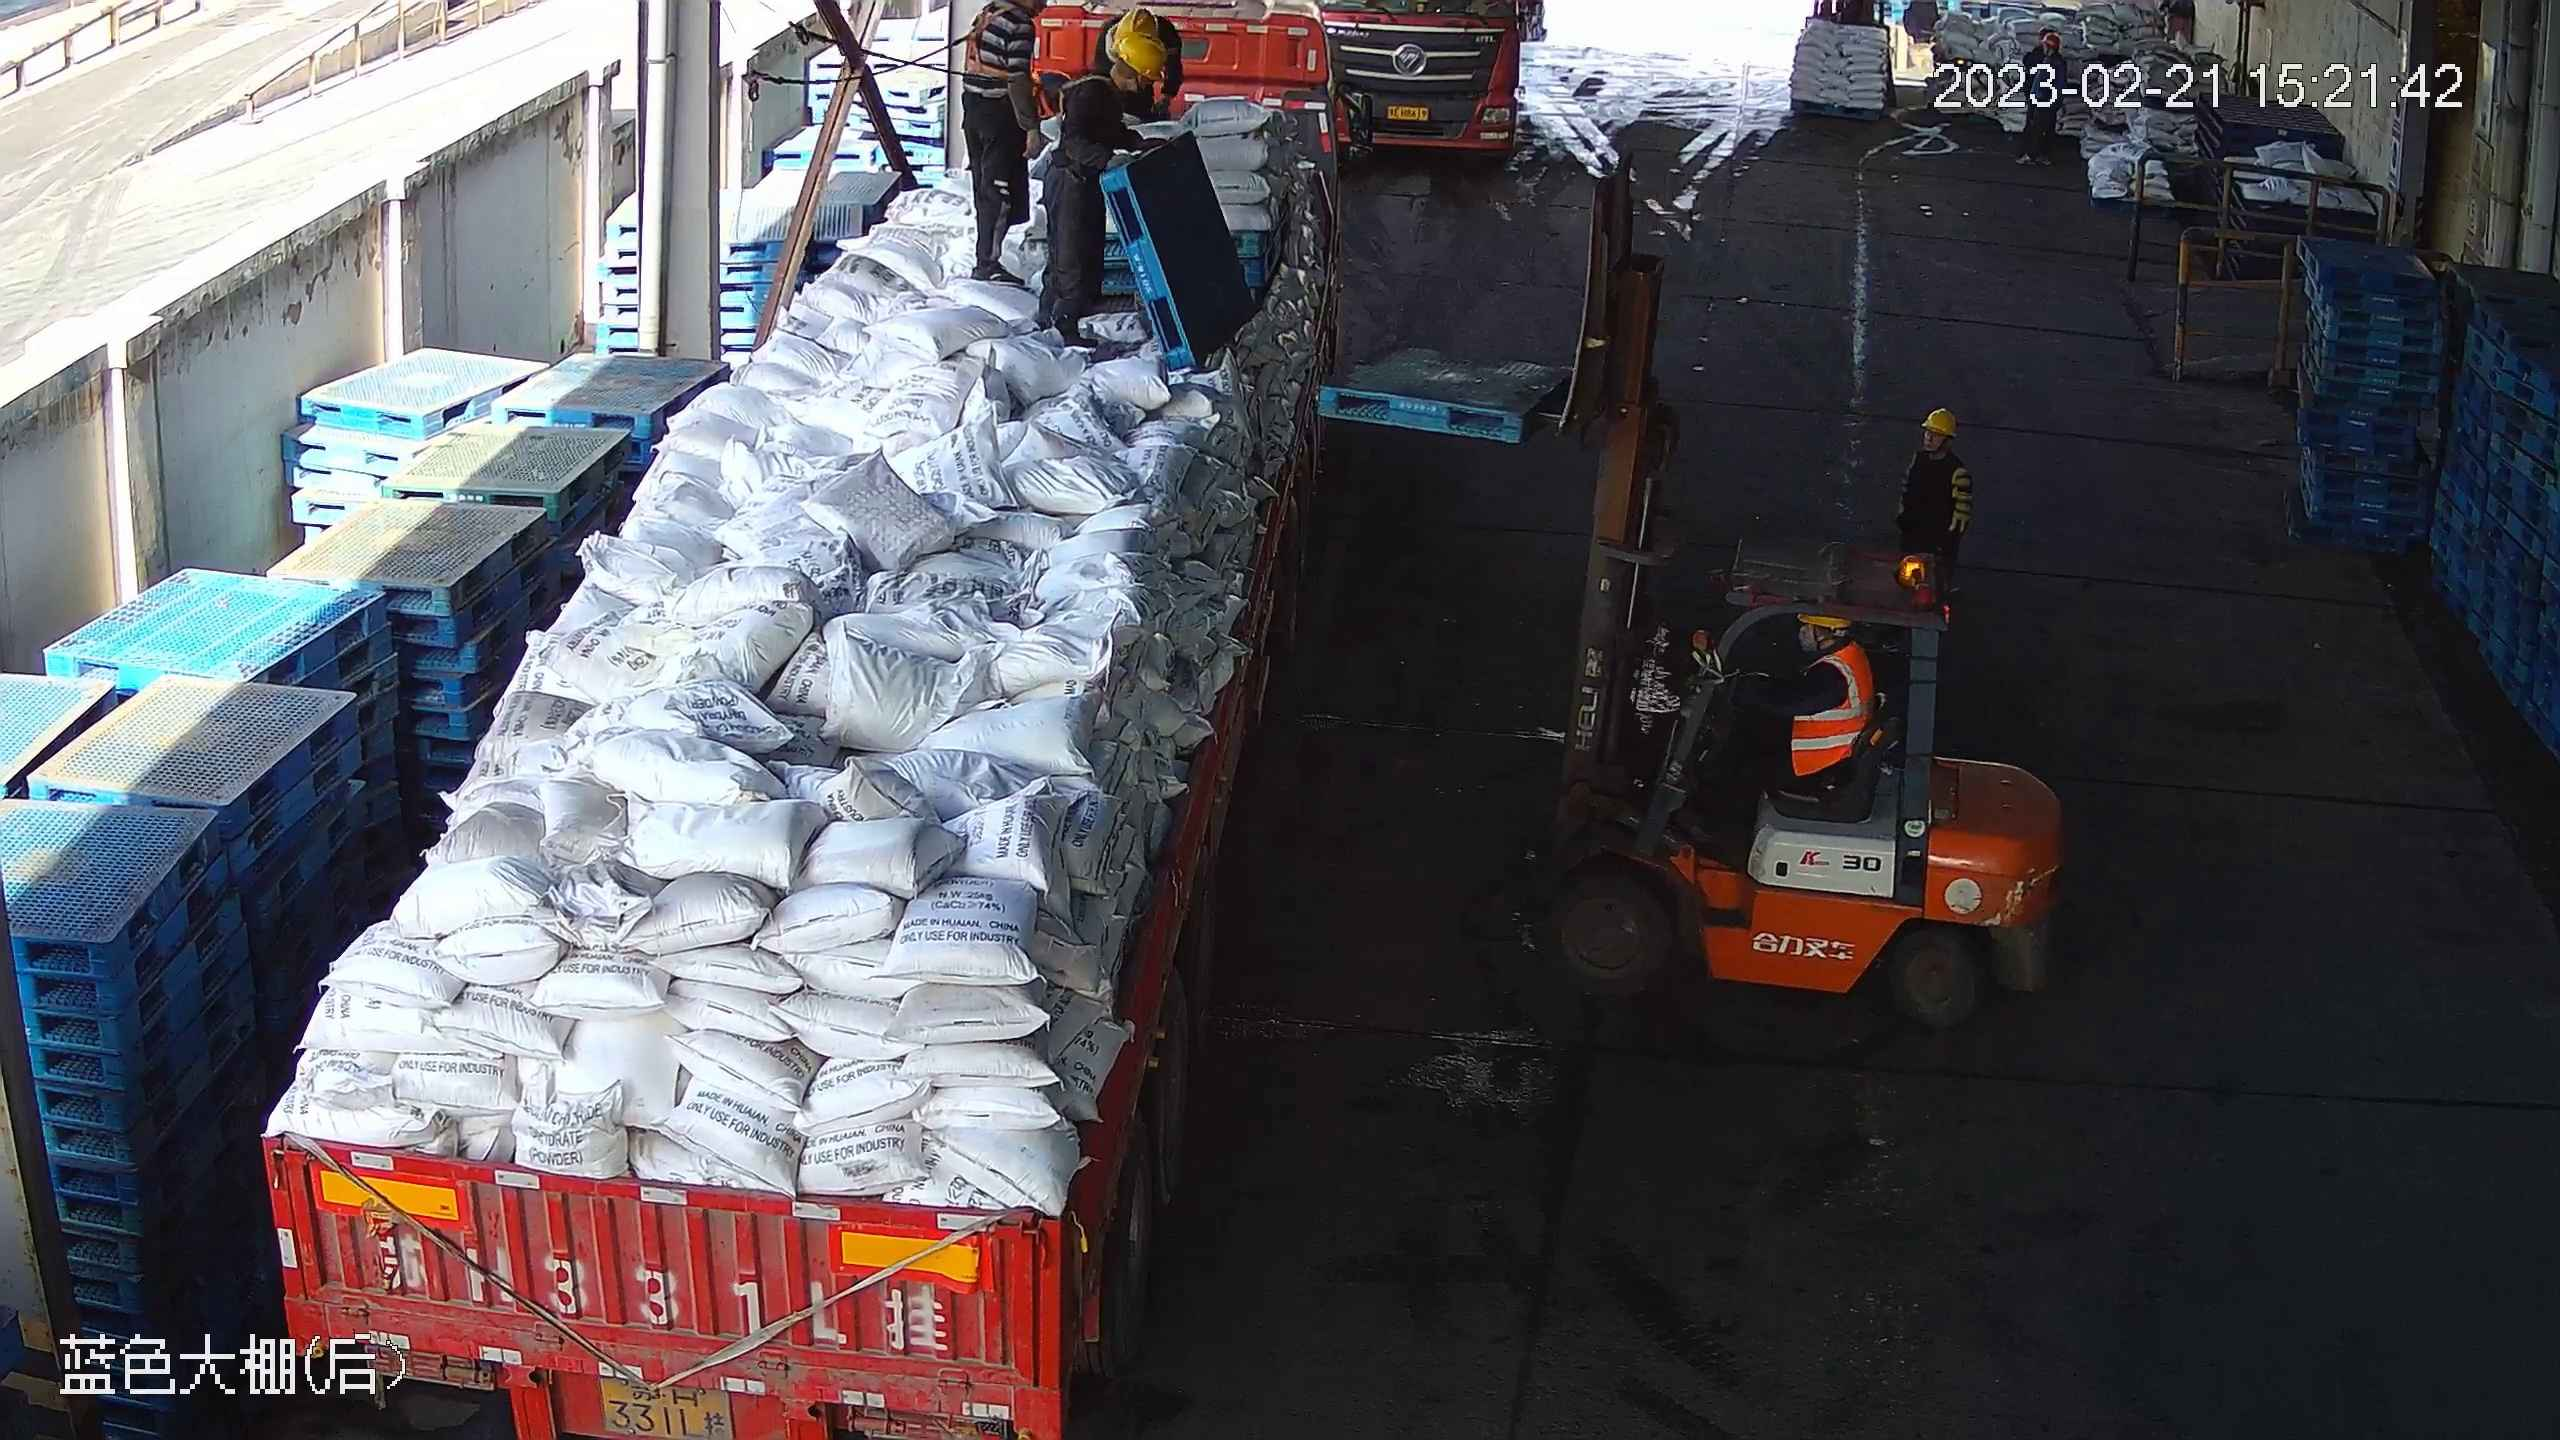belt: (958, 8, 1030, 85), (1048, 72, 1106, 136)
head: (1767, 613, 1863, 695), (1065, 57, 1153, 137), (1914, 409, 1972, 483)
helmet: (1107, 8, 1158, 46), (1121, 37, 1169, 74), (1920, 406, 1958, 443)
people: (1706, 611, 1879, 857), (1055, 46, 1151, 329), (956, 1, 1042, 302), (1911, 401, 1990, 636)
truck: (235, 6, 1376, 1436), (1321, 2, 1532, 163)
